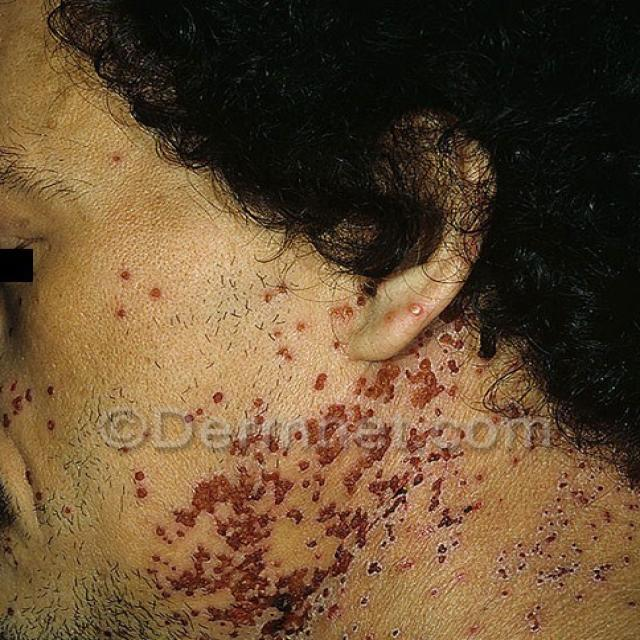Viral Infections: (179, 445, 458, 608), (245, 266, 478, 426), (492, 452, 640, 625), (0, 368, 110, 457), (93, 258, 180, 336), (6, 455, 87, 534), (186, 612, 379, 640), (116, 437, 177, 508), (170, 384, 245, 437)
